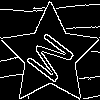M: (25, 30, 83, 91)
